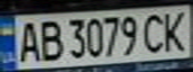0: (84, 15, 106, 58)
3: (63, 16, 87, 60)
7: (103, 14, 121, 57)
9: (118, 12, 142, 57)
A: (12, 18, 42, 63)
B: (36, 17, 63, 62)
C: (139, 10, 169, 55)
K: (157, 8, 193, 54)
